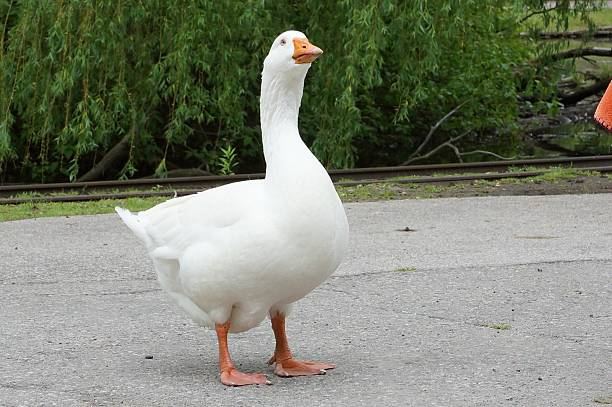goose: (112, 28, 355, 387)
